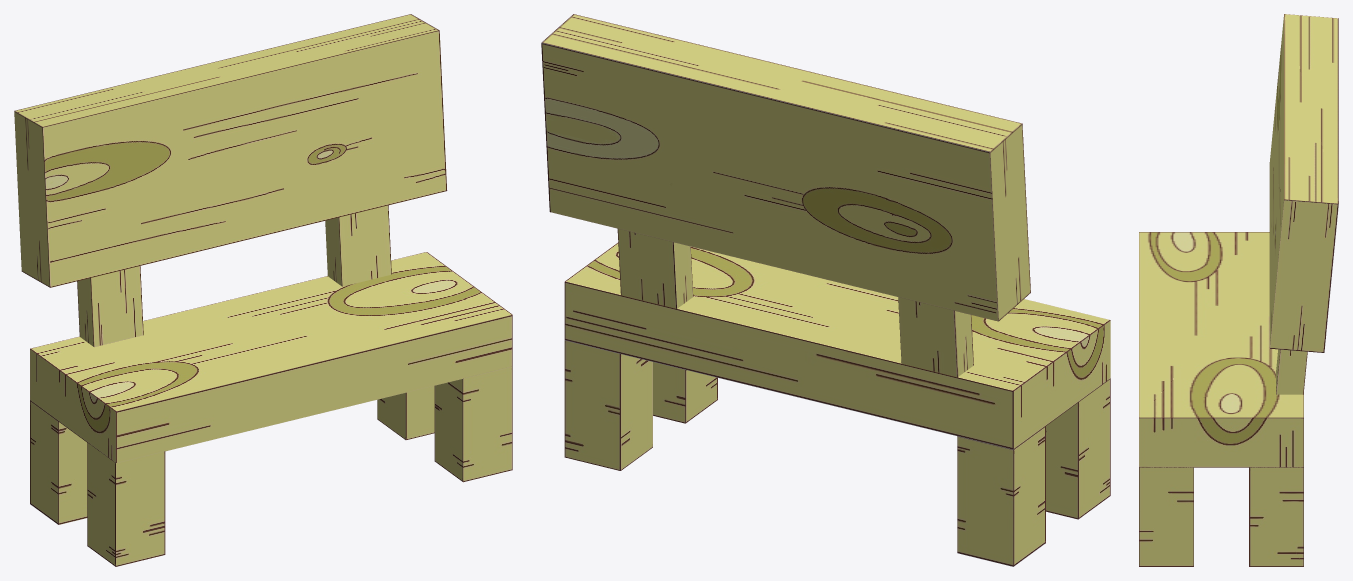
File: Dream_Bench.fbx
The picture shows the model from 3 angles, left to right: view 1: azimuth 30°, elevation 25°; view 2: azimuth 150°, elevation 25°; view 3: azimuth 270°, elevation 25°; orthographic projection. The views are drawn at different scales.
Visible parts, largest first — view 1: Box001, Box004; view 2: Box001, Box004; view 3: Box004, Box001.
Boxes of the visible parts, x1=… form: Box001: x1=14, y1=14, x2=447, y2=346; Box004: x1=30, y1=252, x2=512, y2=566; Box001: x1=541, y1=14, x2=1030, y2=377; Box004: x1=564, y1=242, x2=1110, y2=566; Box004: x1=1139, y1=232, x2=1303, y2=566; Box001: x1=1269, y1=14, x2=1338, y2=394.
Size of the model in its own units: 322 by 296 by 145.
Materials: 2 (2 with a texture image).
